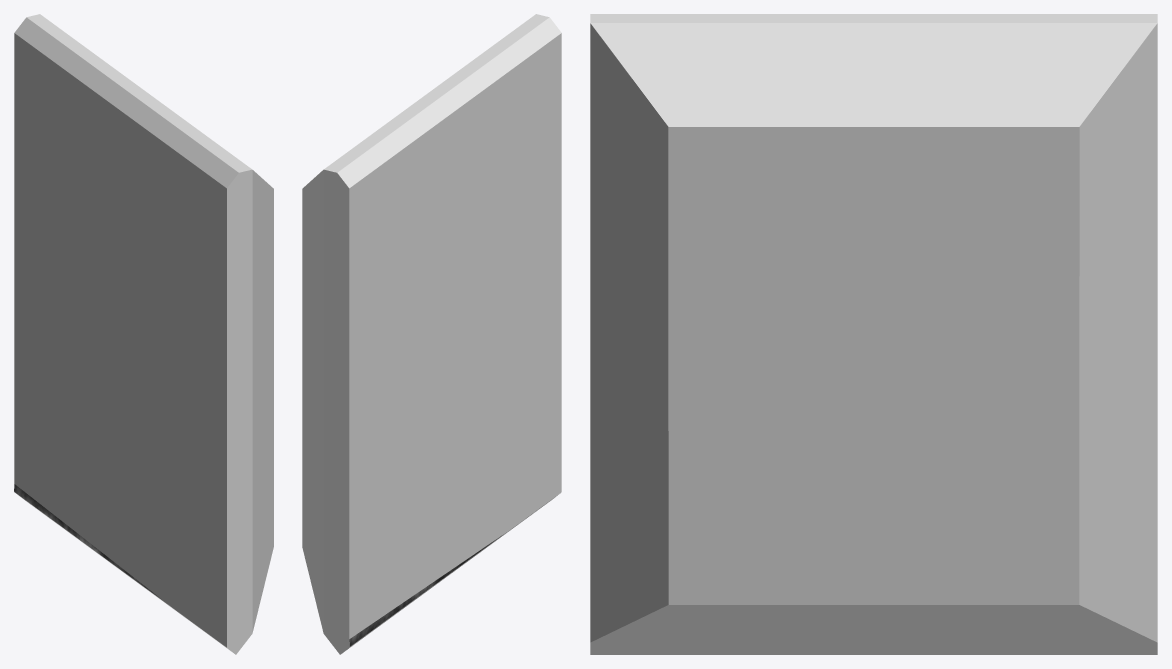
The model's file is SM_house_wall_05.fbx.
3 renders of one model, left to right at view 1: azimuth 30°, elevation 25°; view 2: azimuth 150°, elevation 25°; view 3: azimuth 270°, elevation 25°, orthographic. The views are drawn at different scales.
Parts seen in each view (by area): view 1: SM_house_wall_05_ConvexHulls, SM_house_wall_05_LOD0; view 2: SM_house_wall_05_ConvexHulls, SM_house_wall_05_LOD0; view 3: SM_house_wall_05_ConvexHulls.
Boxes of the visible parts, bbox=[...] form: SM_house_wall_05_ConvexHulls: bbox=[14, 14, 273, 654]; SM_house_wall_05_LOD0: bbox=[14, 484, 168, 604]; SM_house_wall_05_ConvexHulls: bbox=[302, 14, 561, 654]; SM_house_wall_05_LOD0: bbox=[349, 534, 503, 646]; SM_house_wall_05_ConvexHulls: bbox=[590, 14, 1157, 654].
Size of the model in its own units: 83.53 by 400 by 500.
